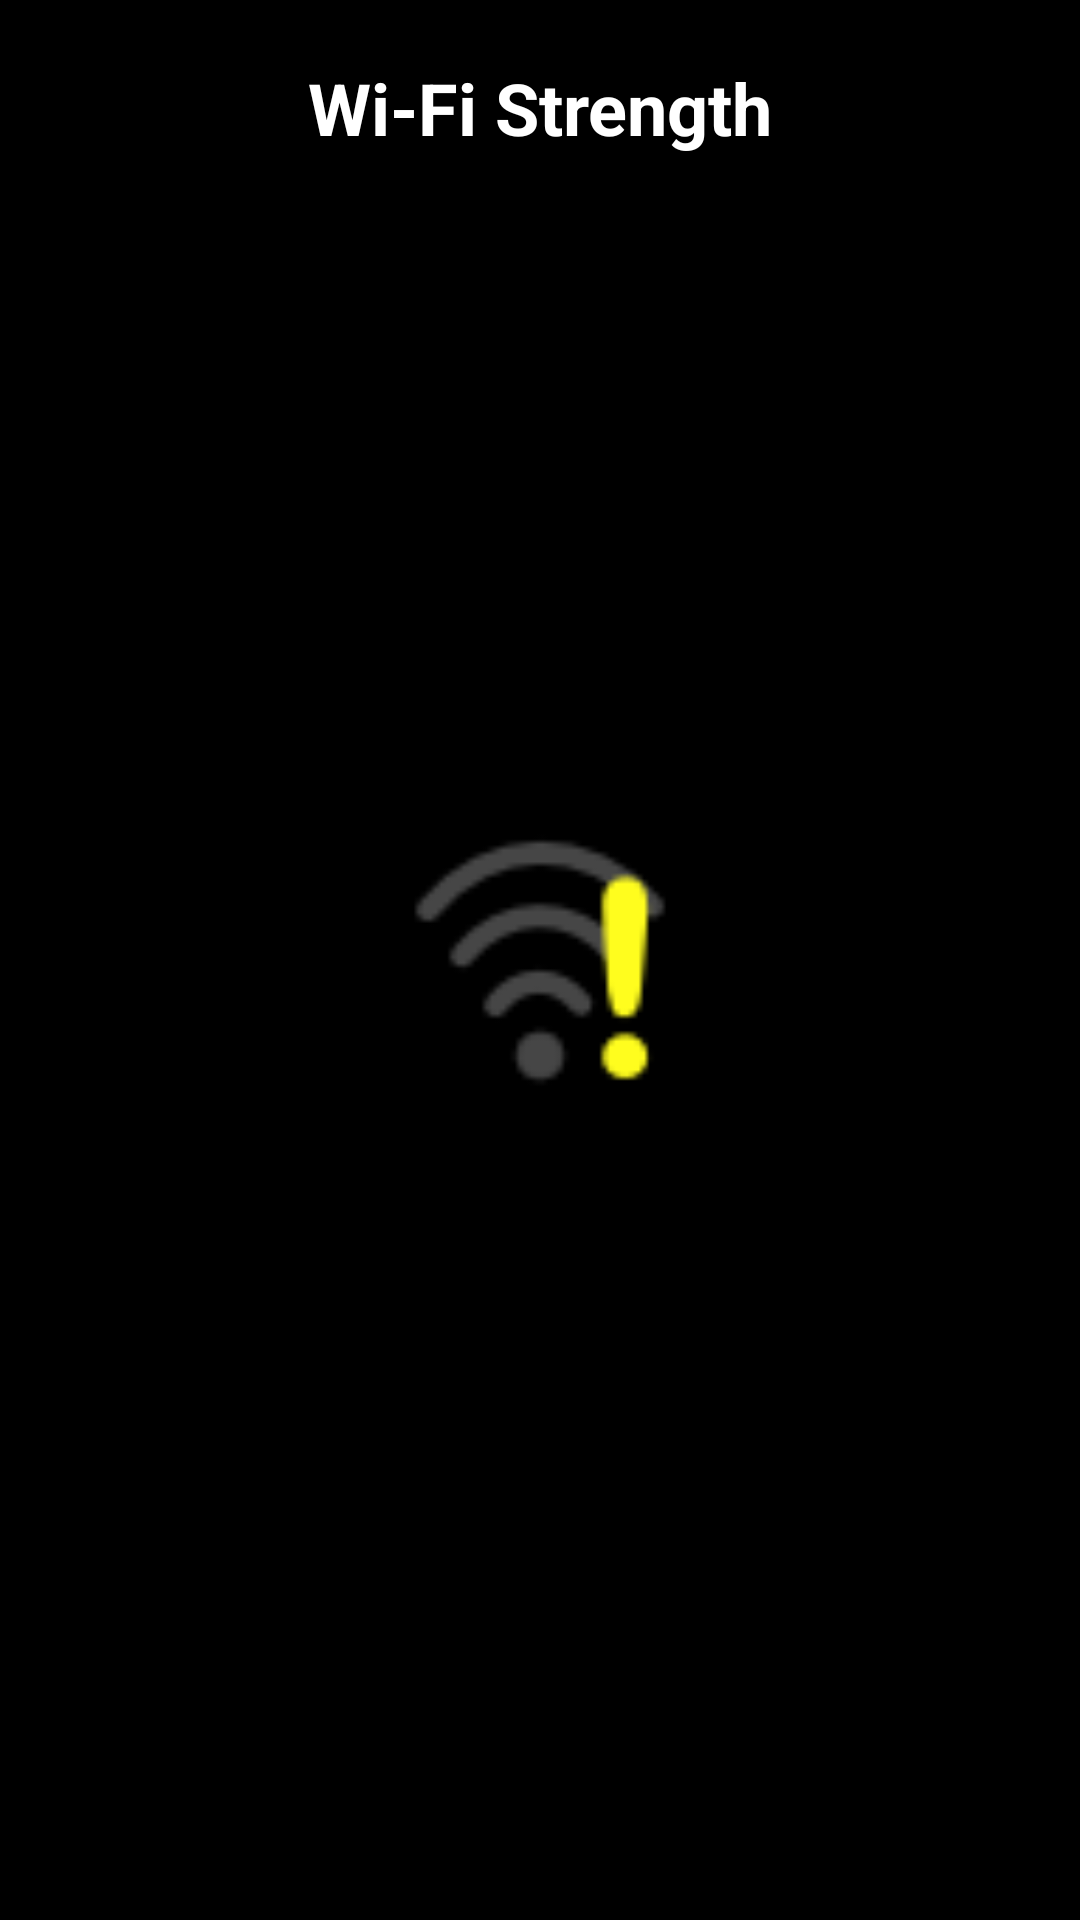

Icon bounding boxes for this 1080w x 1920h phone screenshot, format (x1, y1, x2, y2):
wifi disable: (416, 841, 664, 1080)
